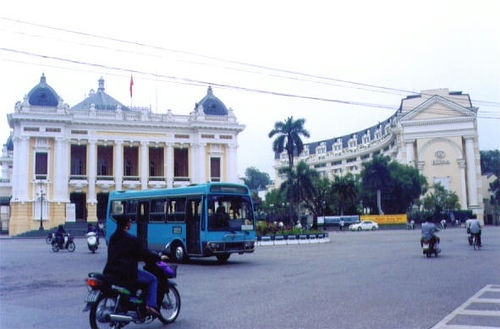non-vehicle: (82, 260, 184, 324), (50, 233, 75, 251), (85, 229, 98, 253), (422, 238, 438, 256), (469, 232, 480, 248), (466, 228, 471, 244)
